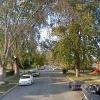Car: (15, 66, 38, 92)
